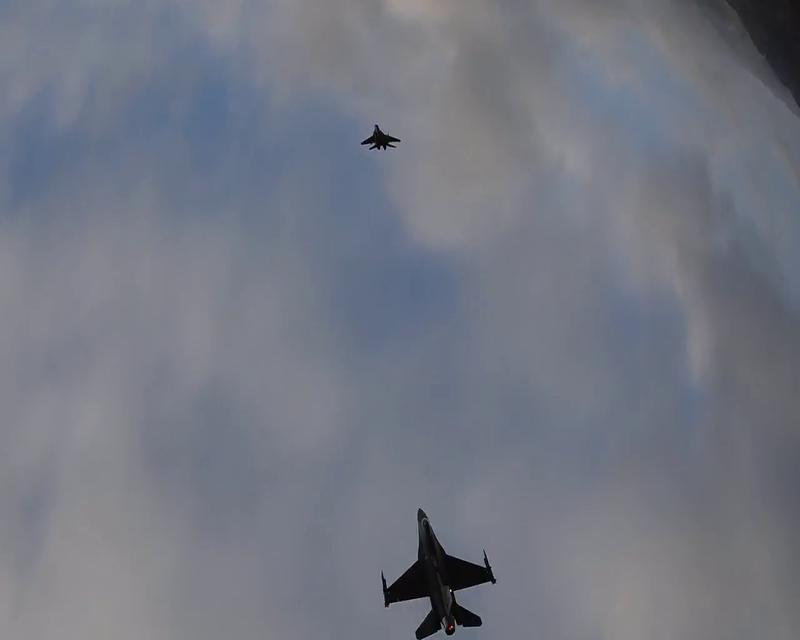UAV: (379, 506, 497, 638), (360, 122, 401, 151)
